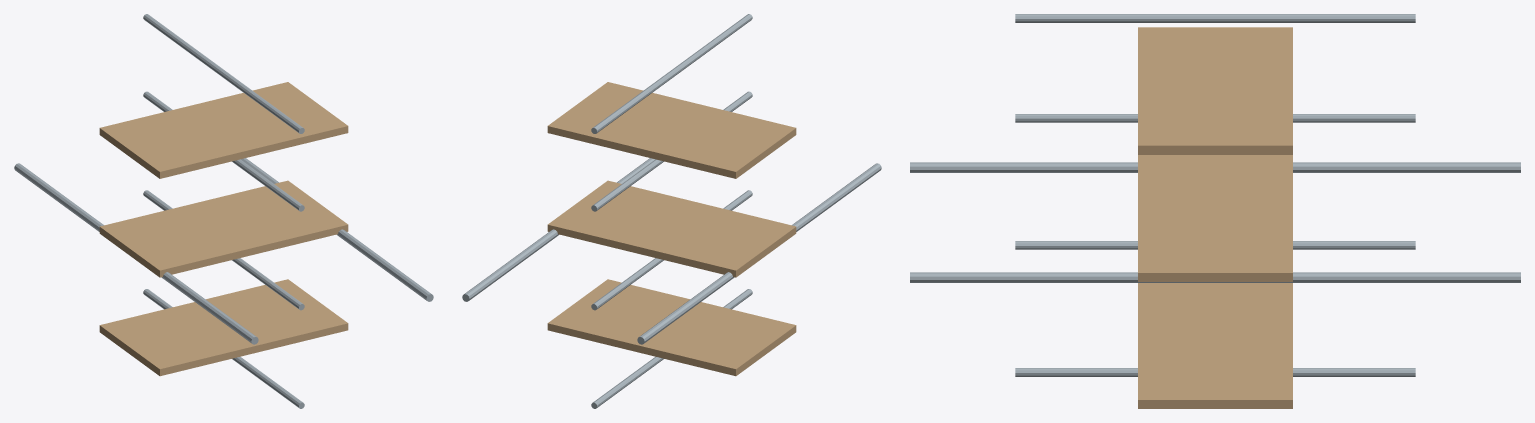
Rendered from scaffold_lod0.glb.
3 renders of one model, left to right at view 1: azimuth 30°, elevation 25°; view 2: azimuth 150°, elevation 25°; view 3: azimuth 270°, elevation 25°, orthographic. The views are drawn at different scales.
Parts seen in each view (by area): view 1: part_13, part_14, part_12, part_0, part_1, part_3, part_10, part_11, part_9, part_7, part_5, part_2; view 2: part_13, part_14, part_12, part_2, part_1, part_0, part_10, part_11, part_8, part_4, part_6; view 3: part_14, part_13, part_12, part_2, part_0, part_3, part_1, part_10, part_11, part_4, part_5, part_6 (+3 smaller).
Part boxes in pixels (x1,y1,x2,y2): part_13: (99,180,348,277); part_14: (99,82,348,178); part_12: (99,279,348,376); part_0: (14,163,201,302); part_1: (69,203,258,344); part_3: (245,160,433,301); part_10: (143,14,246,93); part_11: (198,54,304,133); part_9: (232,160,304,211); part_7: (232,258,304,310); part_5: (232,356,304,408); part_2: (241,158,373,260); part_13: (547,180,796,277); part_14: (547,82,796,178); part_12: (547,279,796,376); part_2: (462,160,650,301); part_1: (697,163,881,302); part_0: (637,203,824,344); part_10: (591,54,697,133); part_11: (651,14,752,93); part_8: (591,159,663,211); part_4: (591,356,663,408); part_6: (591,258,663,310); part_14: (1138,27,1292,154); part_13: (1138,155,1292,281); part_12: (1138,283,1292,408); part_2: (1050,272,1520,282); part_0: (1050,162,1520,172); part_3: (910,272,1380,282); part_1: (910,162,1380,172); part_10: (1155,14,1415,22); part_11: (1015,14,1275,22); part_4: (1293,368,1415,376); part_5: (1015,368,1137,376); part_6: (1293,241,1415,249).
Bounding box in the file's own units: 2.8 × 3.99 × 6.1.
